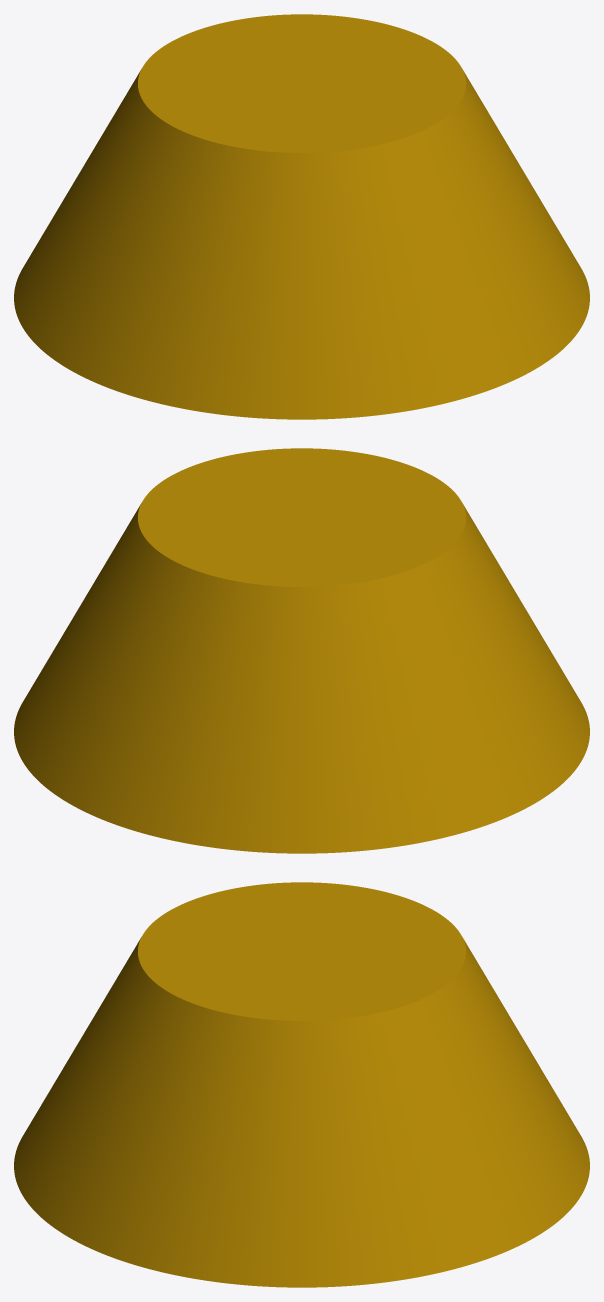
The model's file is EmDriveModel.dae.
3 renders of one model, top to bottom at view 1: azimuth 30°, elevation 25°; view 2: azimuth 150°, elevation 25°; view 3: azimuth 270°, elevation 25°, orthographic.
Visible parts, largest first — view 1: Cone; view 2: Cone; view 3: Cone.
Part boxes in pixels (left/top/right/bottom): Cone: left=14, top=14, right=589, bottom=419; Cone: left=14, top=448, right=589, bottom=853; Cone: left=14, top=882, right=589, bottom=1287.
Bounding box in the file's own units: 55.8 × 55.8 × 22.9.
